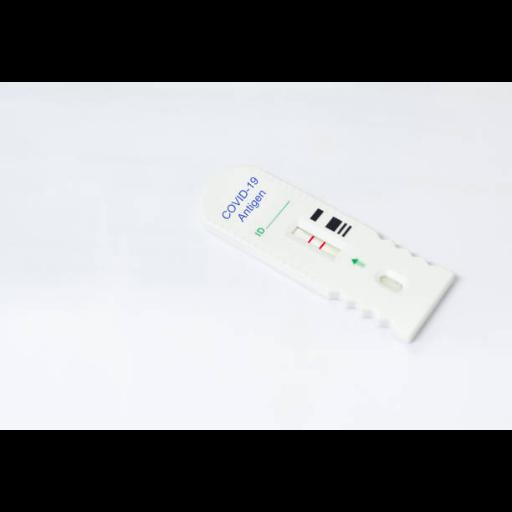Pos: (189, 156, 450, 335)
